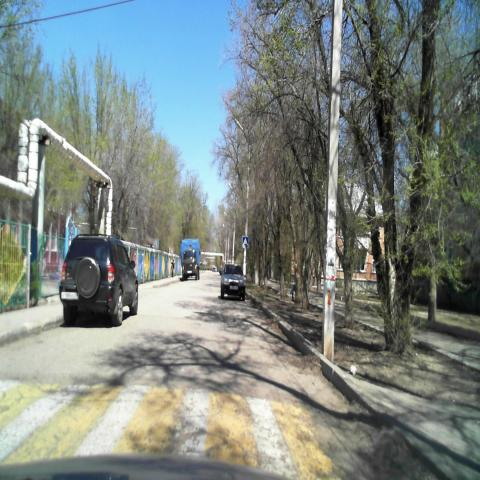5_20: (243, 235, 248, 248)
